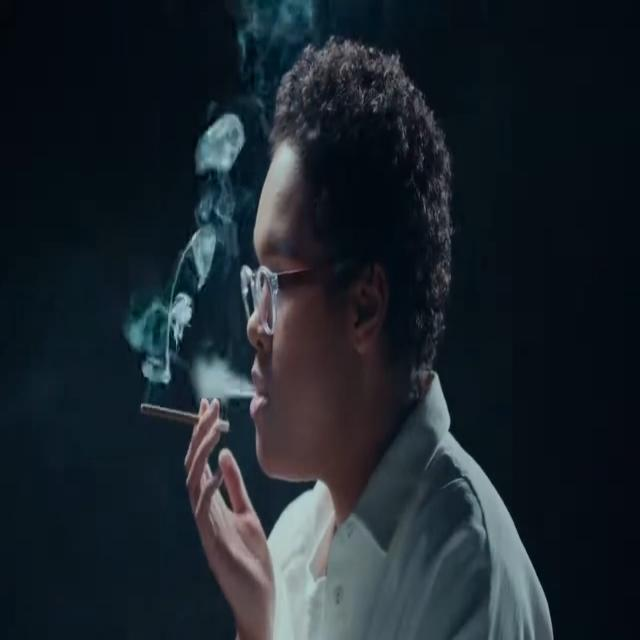Курение: (137, 390, 231, 442)
